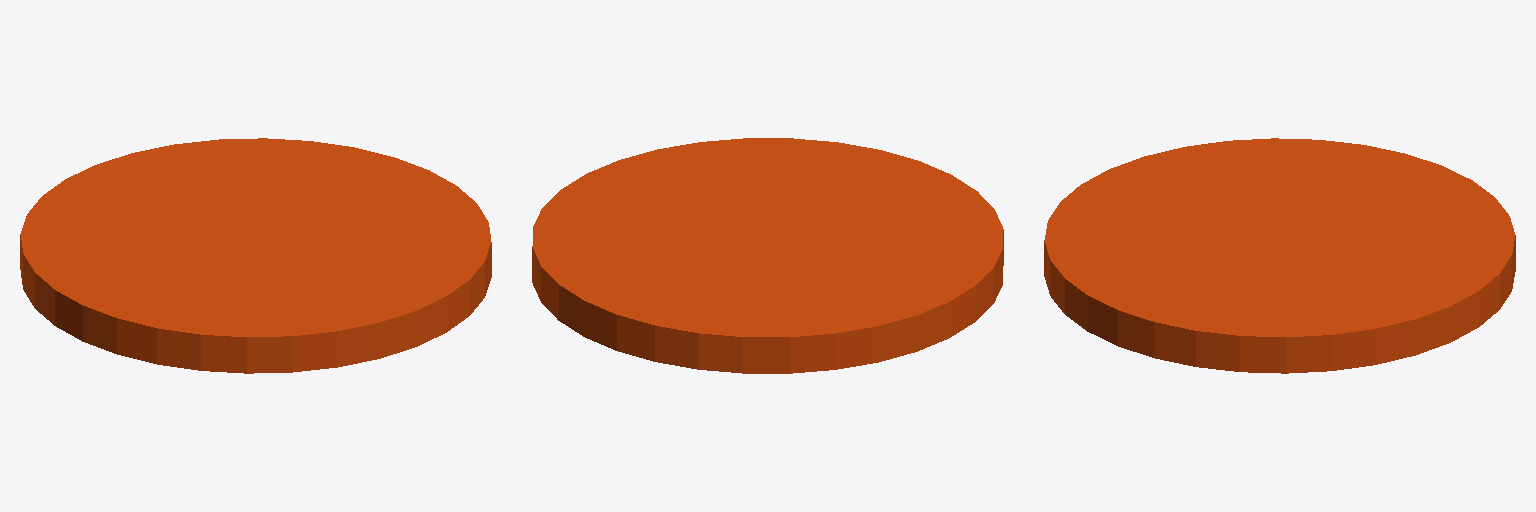
URDF robot description (Interference):
<?xml version="1.0"?>
<robot name="Interference">
  <link name="baseLink">
    <inertial>
      <origin xyz="0.0 0.0 0.0" rpy="0.0 0.0 0.0"/>
      <inertia ixx="0.0" ixy="0.0" ixz="0.0" iyy="0.0" iyz="0.0" izz="0.0"/>
      <mass value="0"/>
    </inertial>
    <visual>
      <origin xyz="0.0 0.0 0.0" rpy="0.0 0.0 1.4013119228594495"/>
      <geometry>
        <cylinder radius="0.058893571762315494" length="0.01"/>
      </geometry>
      <material name="color">
        <color rgba="0.8668778566752166 0.3572749918185141 0.09925904420451614 1.0"/>
      </material>
    </visual>
  </link>
</robot>

--- What the picture shows (computed from the rendered views, not written in the file) ---
Views: 3 orthographic renders of the robot side by side, from view 1: azimuth 30°, elevation 25°; view 2: azimuth 150°, elevation 25°; view 3: azimuth 270°, elevation 25°.
Model Interference with 1 links and 0 joints (none), rooted at baseLink, posed every joint at zero.
Visible links, largest first — view 1: baseLink; view 2: baseLink; view 3: baseLink.
Link boxes in pixels (<box>): baseLink: <box>20,138,491,373</box>; baseLink: <box>532,138,1003,373</box>; baseLink: <box>1044,138,1515,373</box>.
Size in the robot's own frame: 0.1177 by 0.1177 by 0.01 metres.
Geometry: primitives only (box / cylinder / sphere), no mesh files.